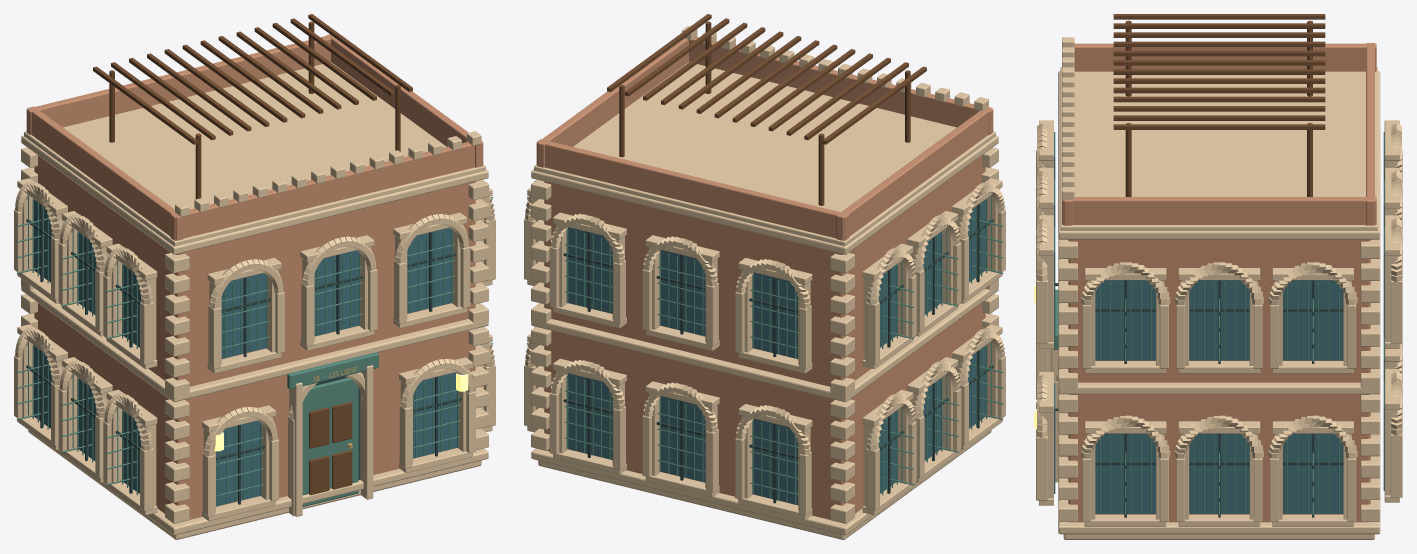
The model's file is maroc-2.glb.
3 renders of one model, left to right at view 1: azimuth 30°, elevation 25°; view 2: azimuth 150°, elevation 25°; view 3: azimuth 270°, elevation 25°, orthographic. The views are drawn at different scales.
Parts seen in each view (by area): view 1: maroc-2_Dressed stone.005, maroc-2_Masonry plaster.005, maroc-2_Window blue, maroc-2_Regional painted wood.005, maroc-2_Walnut, maroc-2_Forged midnight; view 2: maroc-2_Dressed stone.005, maroc-2_Masonry plaster.005, maroc-2_Window blue, maroc-2_Regional painted wood.005, maroc-2_Walnut, maroc-2_Forged midnight; view 3: maroc-2_Dressed stone.005, maroc-2_Masonry plaster.005, maroc-2_Window blue, maroc-2_Walnut, maroc-2_Regional painted wood.005, maroc-2_Forged midnight.
Part boxes in pixels (box(x1,y1,x2,y2)): maroc-2_Dressed stone.005: box(14, 62, 495, 539); maroc-2_Masonry plaster.005: box(26, 34, 483, 519); maroc-2_Window blue: box(33, 198, 457, 506); maroc-2_Regional painted wood.005: box(16, 196, 493, 506); maroc-2_Walnut: box(93, 14, 412, 495); maroc-2_Forged midnight: box(26, 204, 461, 504); maroc-2_Dressed stone.005: box(524, 26, 1005, 539); maroc-2_Masonry plaster.005: box(536, 36, 993, 519); maroc-2_Window blue: box(567, 198, 986, 504); maroc-2_Regional painted wood.005: box(526, 196, 1003, 504); maroc-2_Walnut: box(607, 14, 926, 205); maroc-2_Forged midnight: box(563, 204, 993, 503); maroc-2_Dressed stone.005: box(1036, 37, 1402, 539); maroc-2_Masonry plaster.005: box(1062, 43, 1376, 522); maroc-2_Window blue: box(1054, 132, 1384, 513); maroc-2_Walnut: box(1113, 14, 1325, 196); maroc-2_Regional painted wood.005: box(1053, 283, 1339, 515); maroc-2_Forged midnight: box(1055, 280, 1343, 517).
Bounding box in the file's own units: 15.5 × 14.27 × 12.18.
